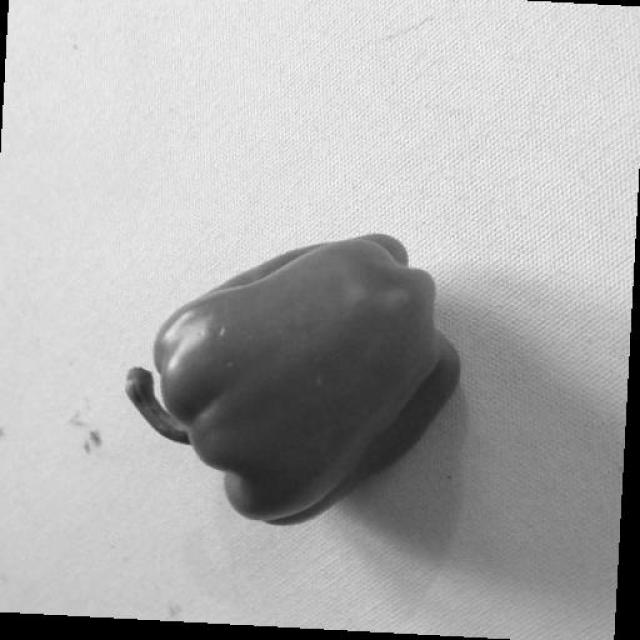Fresh_Capsicum: (173, 272, 433, 473)
